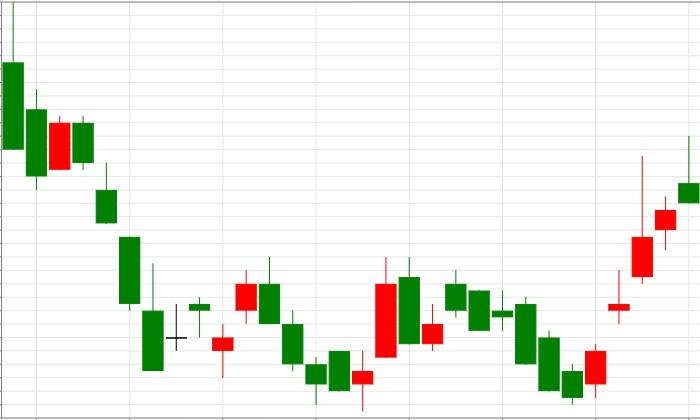shooting_star_fall: (585, 135, 700, 398)
